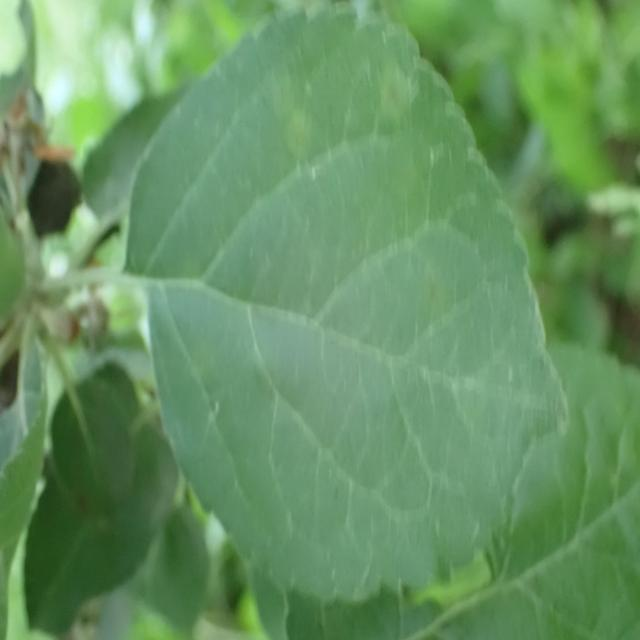scab: (210, 49, 526, 463)
